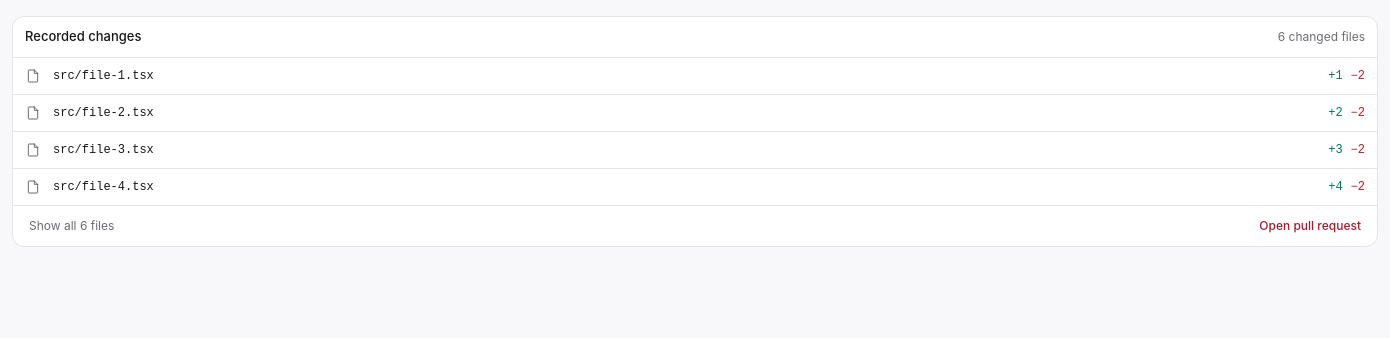
Test: turn deliverables › shows four files initially and retains the full set behind an accessible disclosure
The image size is (1390, 338).
Check: the number of buttons named "Open recorded diff" is 4, box [13,58,1377,94]; [13,94,1377,130]; [13,132,1377,168]; [13,168,1377,204]
Check: the text "src/file-6.tsx" is not shown
Step 1. Click the button "Show all 6 files" → (72, 226), box [25,216,118,236]
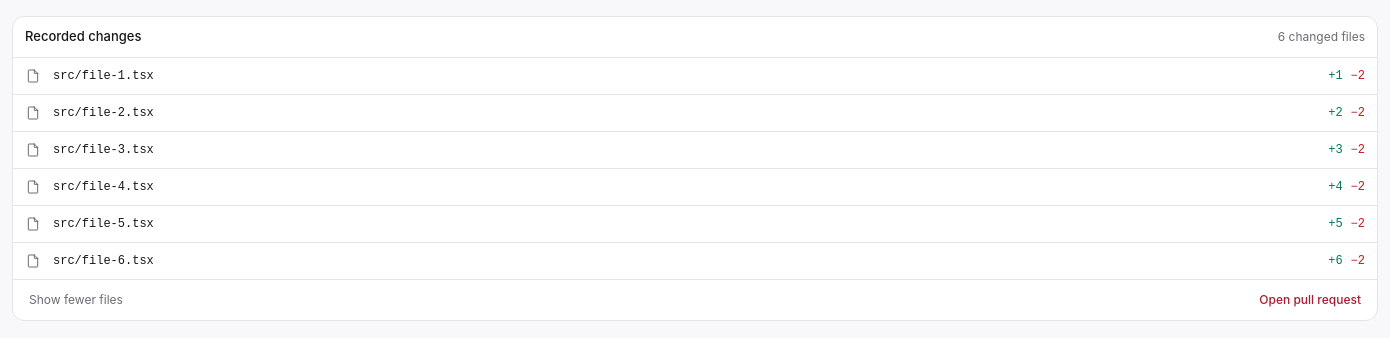
Check: the number of buttons named "Open recorded diff" is 6, box [13,58,1377,94]; [13,94,1377,130]; [13,132,1377,168]; [13,168,1377,204]; [13,206,1377,242]; [13,242,1377,278]
Check: the button "Show fewer files" is expanded
Step 2. Click the button "Show fewer files" → (76, 300), box [25,290,127,310]
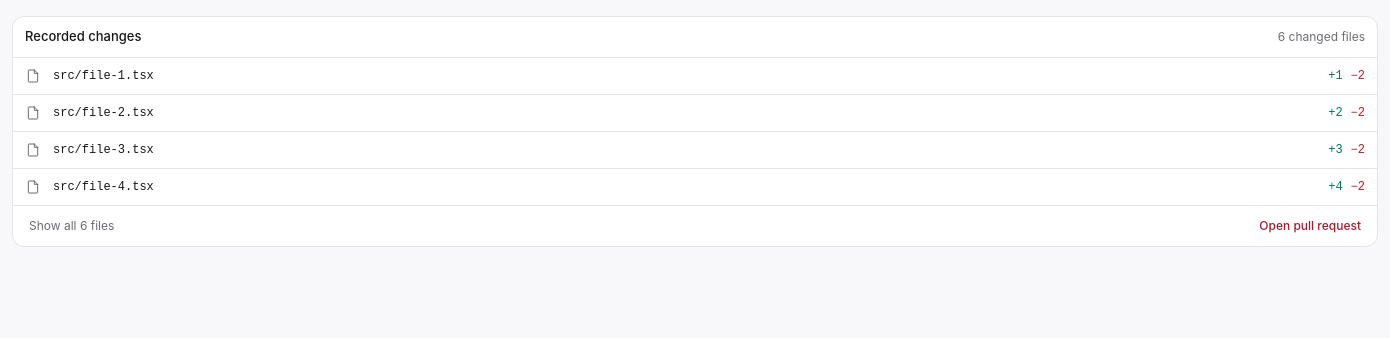
Check: the button "src/file-6.tsx" is gone
